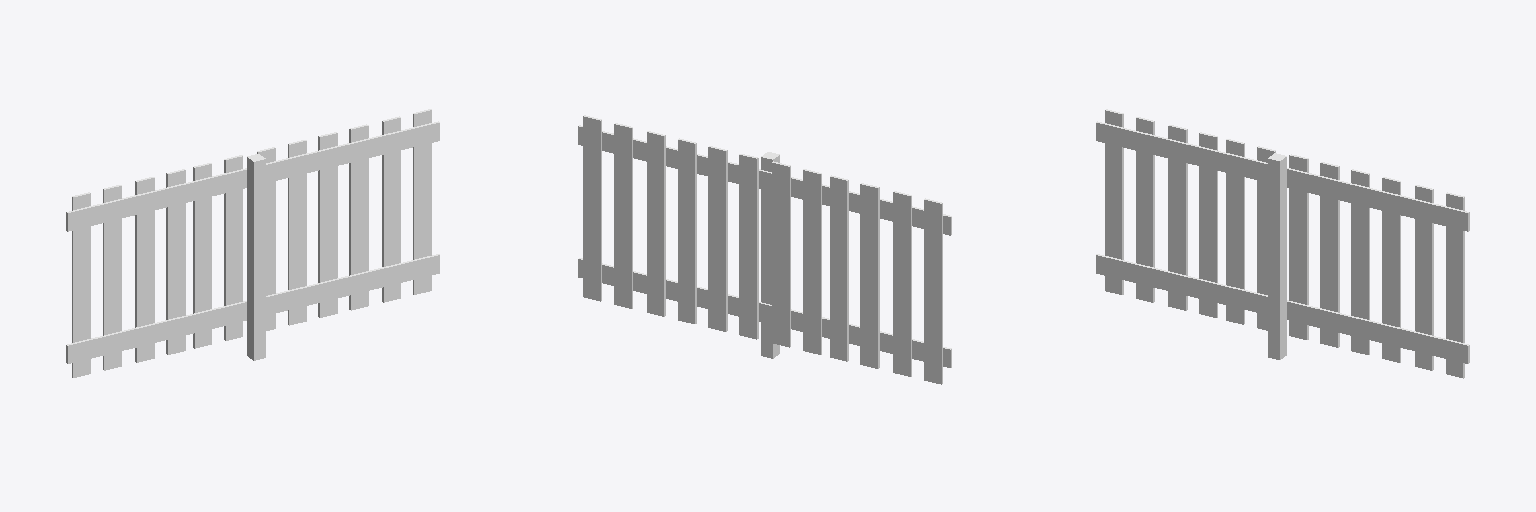
File: fence1.obj
3 views of the same model, side by side, from view 1: azimuth 30°, elevation 25°; view 2: azimuth 150°, elevation 25°; view 3: azimuth 330°, elevation 25° (orthographic).
Parts seen in each view (by area): view 1: fence1; view 2: fence1; view 3: fence1.
Boxes of the visible parts, x1,y1,x2,y2 form: fence1: [66, 109, 439, 377]; fence1: [578, 115, 951, 384]; fence1: [1096, 109, 1469, 378].
Size of the model in its own units: 3.09 by 1.58 by 0.1481.